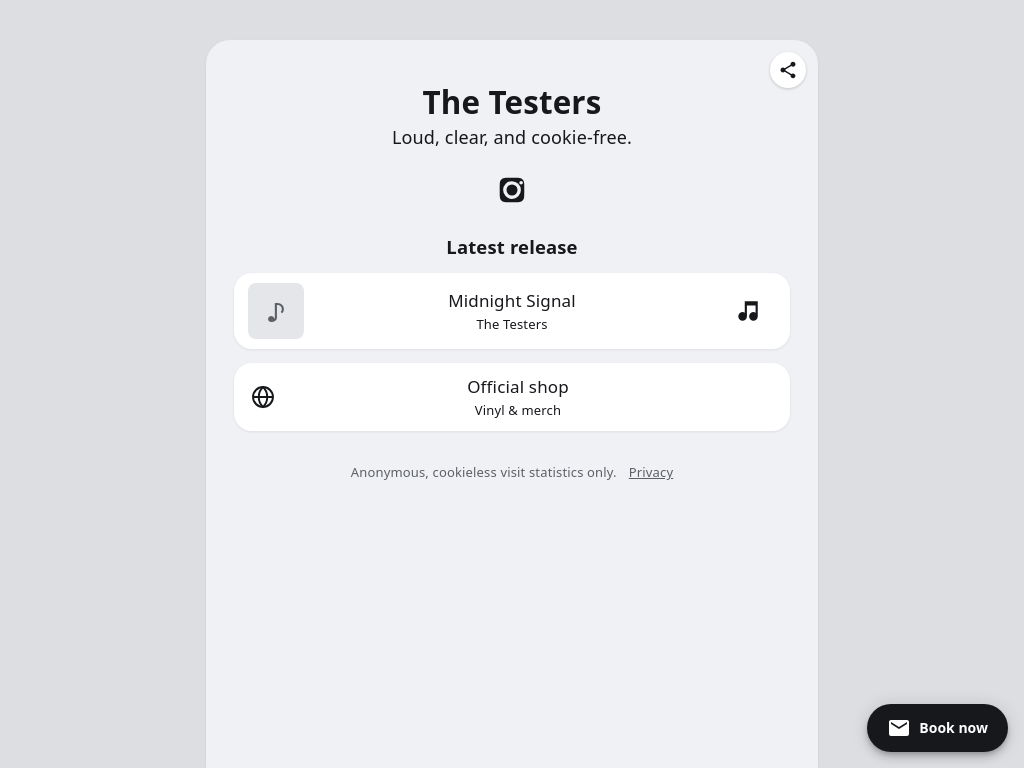
it: public page rendering (real components, mocked API) › offers a band that published booking details a way to book it
Click the button "Book now": (938, 728) [867, 704, 1008, 752]
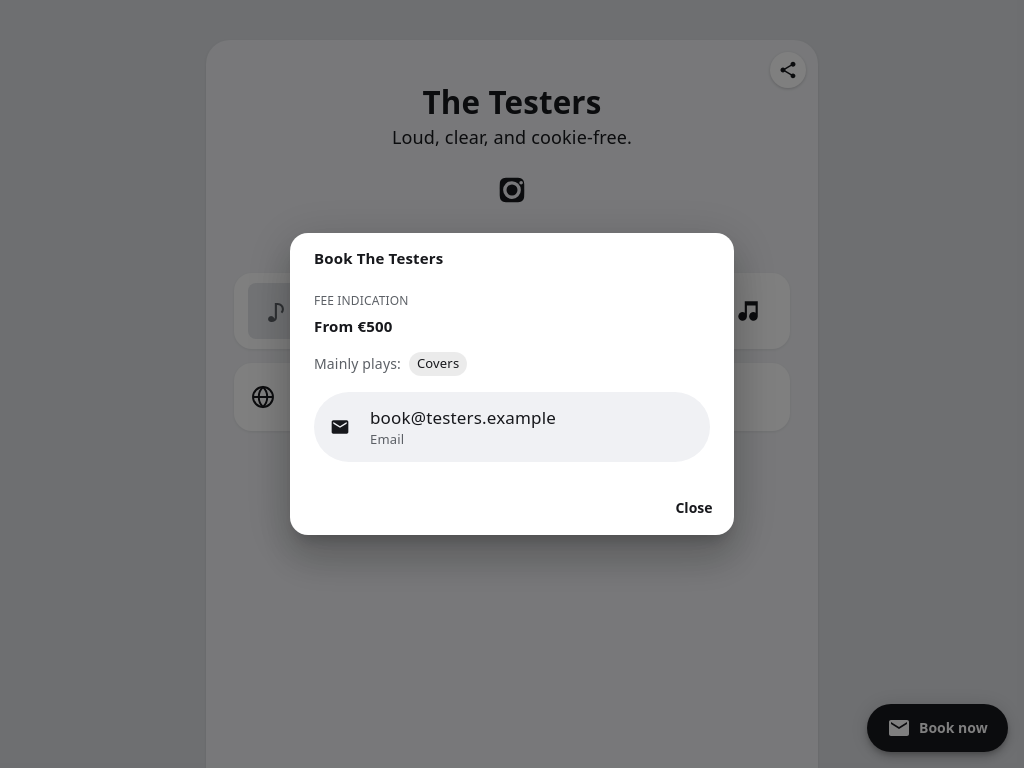
Now the dialog is shown, box [290, 233, 734, 535]
Now the heading "Book The Testers" is shown, box [314, 248, 443, 268]
